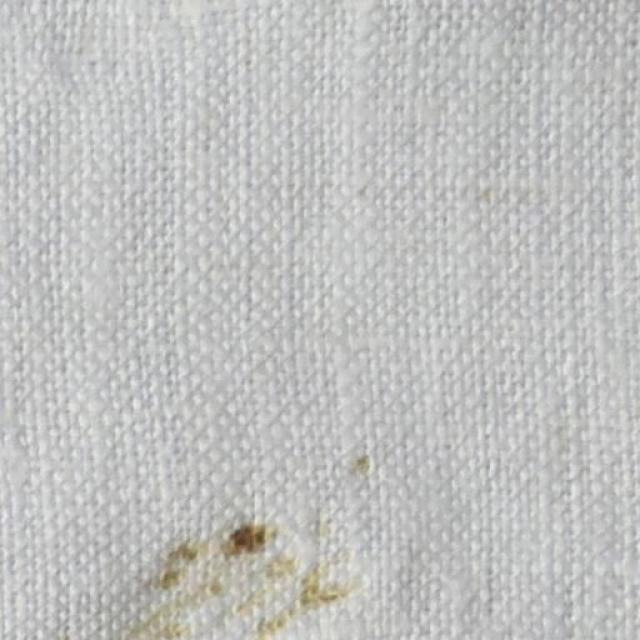Stain: (116, 515, 354, 640), (352, 456, 371, 476)
